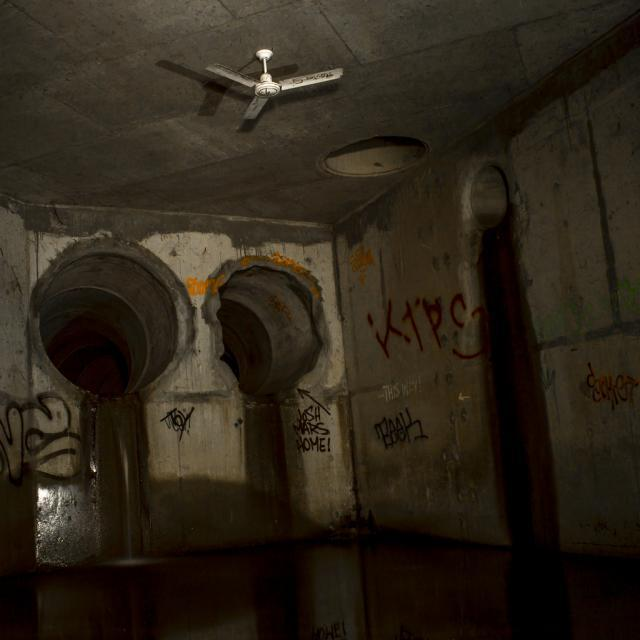fan_off: (205, 54, 342, 125)
